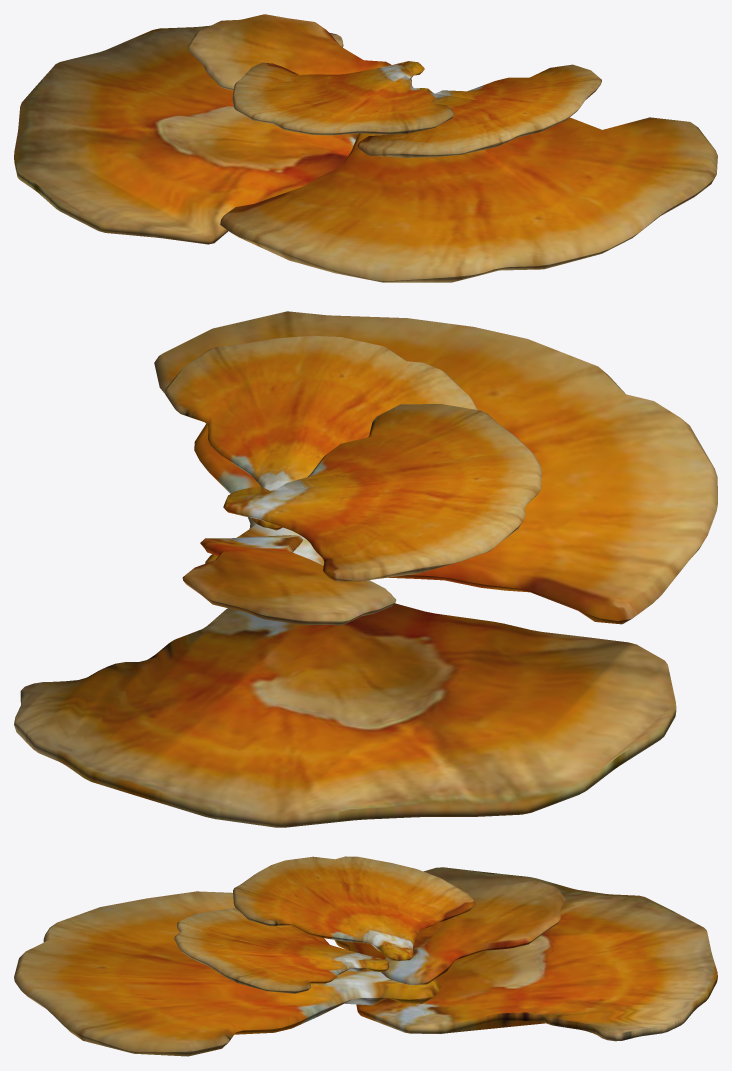
The model's file is laetiporus_sulphureus_fungi.glb.
3 renders of one model, top to bottom at view 1: azimuth 30°, elevation 25°; view 2: azimuth 150°, elevation 25°; view 3: azimuth 270°, elevation 25°, orthographic. The views are drawn at different scales.
Parts seen in each view (by area): view 1: jamur ayam utan5, jamur ayam utan4, jamur ayam utan1, jamur ayam utan2, jamur ayam utan3; view 2: jamur ayam utan4, jamur ayam utan5, jamur ayam utan1, jamur ayam utan2, jamur ayam utan3; view 3: jamur ayam utan4, jamur ayam utan5, jamur ayam utan1, jamur ayam utan2, jamur ayam utan3.
Part boxes in pixels (<box>): jamur ayam utan5: <box>220,117,717,282</box>; jamur ayam utan4: <box>14,25,358,244</box>; jamur ayam utan1: <box>232,61,454,135</box>; jamur ayam utan2: <box>357,64,601,157</box>; jamur ayam utan3: <box>187,14,411,90</box>; jamur ayam utan4: <box>14,603,676,827</box>; jamur ayam utan5: <box>154,311,717,624</box>; jamur ayam utan1: <box>223,404,541,581</box>; jamur ayam utan2: <box>165,335,477,530</box>; jamur ayam utan3: <box>182,535,396,625</box>; jamur ayam utan4: <box>334,867,717,1041</box>; jamur ayam utan5: <box>14,891,440,1056</box>; jamur ayam utan1: <box>233,856,475,960</box>; jamur ayam utan2: <box>174,908,389,993</box>; jamur ayam utan3: <box>381,880,565,985</box>.
Size of the model in its own units: 2.19 by 0.4806 by 2.79.
Materials: 3 (3 with a texture image).
